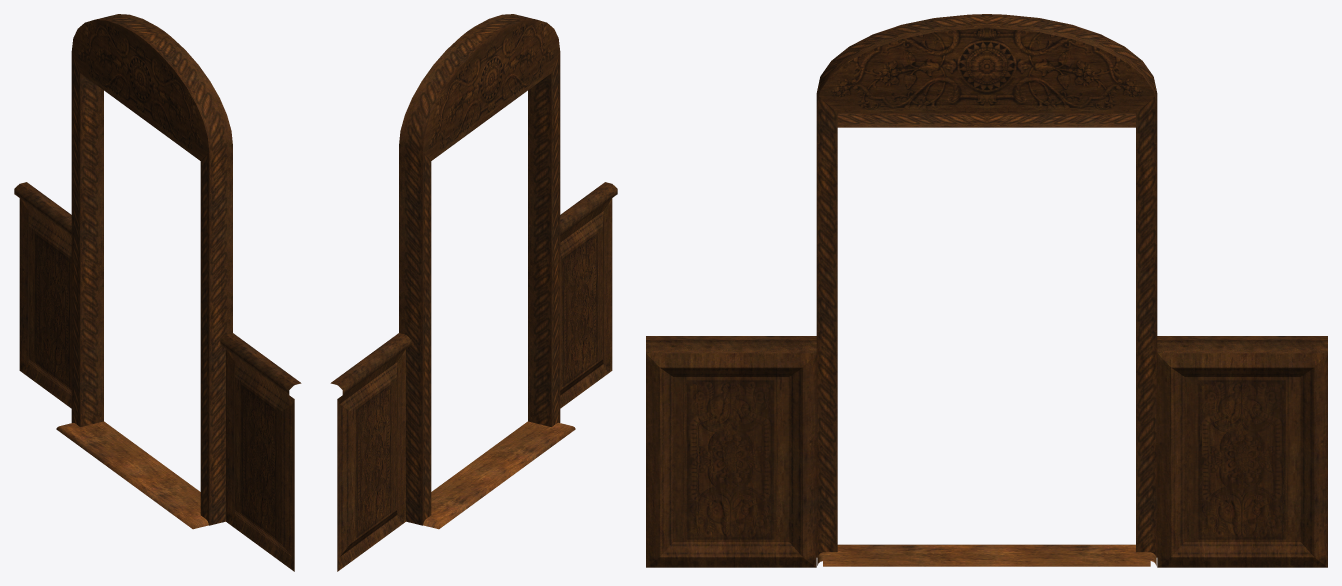
File: wood_panneling_door_frame.DAE
3 renders of one model, left to right at view 1: azimuth 30°, elevation 25°; view 2: azimuth 150°, elevation 25°; view 3: azimuth 270°, elevation 25°, orthographic. The views are drawn at different scales.
Parts seen in each view (by area): view 1: Box005, Box003; view 2: Box005, Box003; view 3: Box003, Box005.
Part boxes in pixels (x1,y1,x2,y2): Box005: [56, 14, 232, 529]; Box003: [14, 182, 301, 571]; Box005: [399, 14, 575, 529]; Box003: [330, 182, 617, 571]; Box003: [646, 336, 1327, 567]; Box005: [816, 14, 1157, 566].
Size of the model in its own units: 0.3344 by 3.52 by 4.
